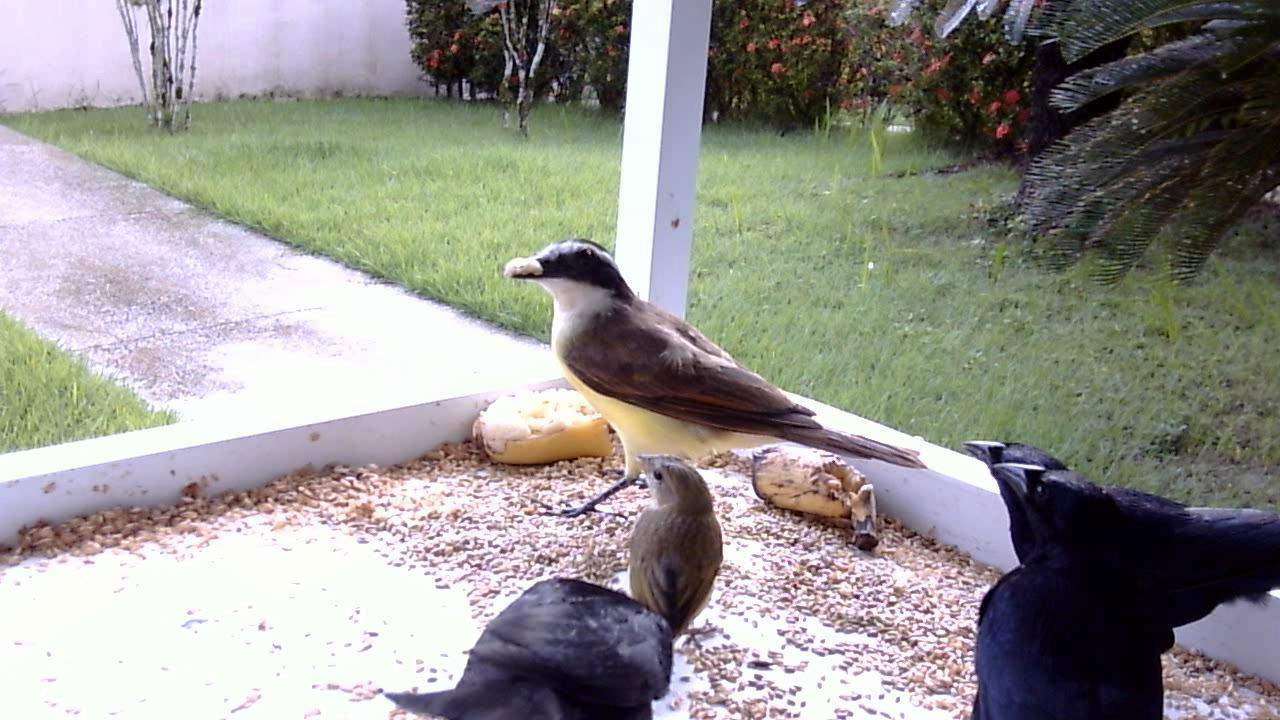bem_te_vi: (492, 222, 928, 547)
canario_do_amazonas: (622, 450, 727, 657)
chupim: (958, 436, 1280, 654), (957, 470, 1164, 720), (378, 562, 687, 717)
